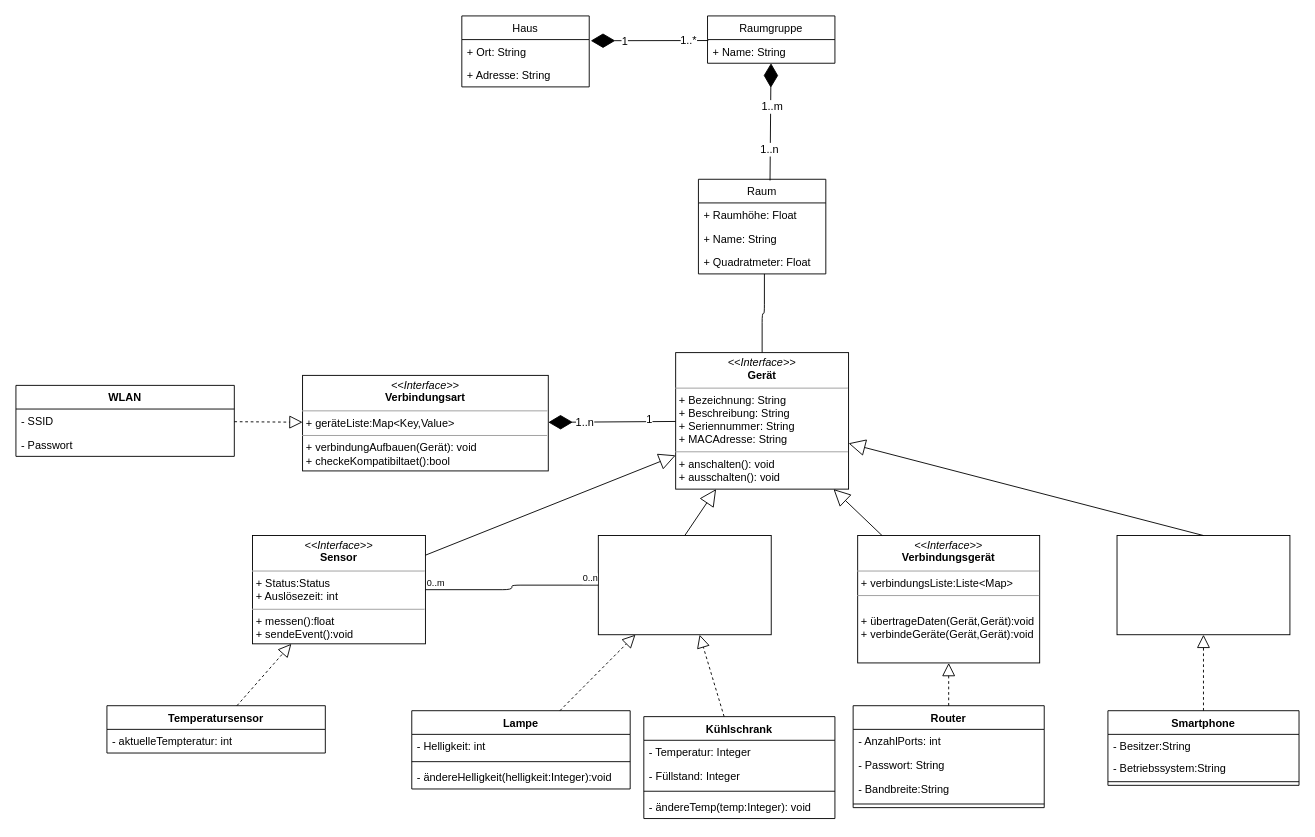
This 1315x837 diagram has some shape labels left out. Here are the shapes that lost their labels. From the top down, the centre of each, then its label:
At point 684,585: "<<Interface>> Smartgerät + + sammleDaten():void + executeBefehl():void".
At point 1203,585: "<<Interface>> Steuergerät + sendeBefehl(...): void + erstelleRoutine(...):void".
